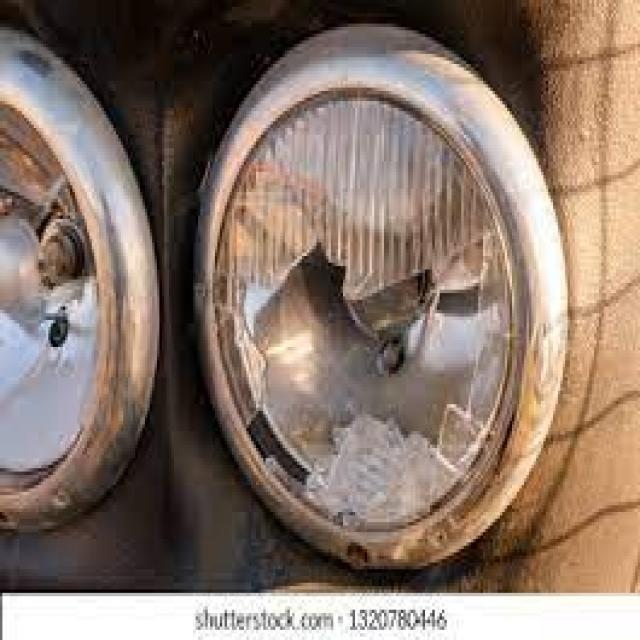damaged-head-light: (200, 76, 537, 550)
